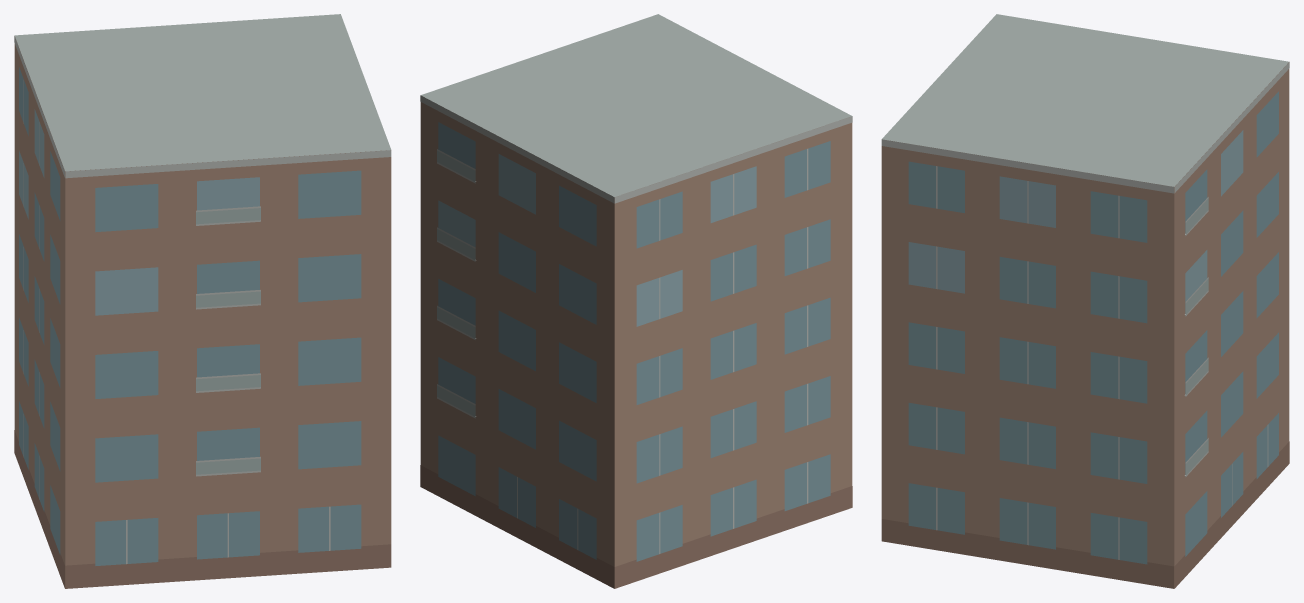
Rendered from survey-upis-32892219.glb.
3 views of the same model, side by side, from view 1: azimuth 30°, elevation 25°; view 2: azimuth 150°, elevation 25°; view 3: azimuth 270°, elevation 25° (orthographic). The views are drawn at different scales.
Visible parts, largest first — view 1: survey-upis-32892219.tmp; view 2: survey-upis-32892219.tmp; view 3: survey-upis-32892219.tmp.
Part boxes in pixels (box(x1,y1,x2,y2)): survey-upis-32892219.tmp: box(14, 14, 391, 588); survey-upis-32892219.tmp: box(420, 14, 852, 588); survey-upis-32892219.tmp: box(881, 14, 1289, 588).
Bounding box in the file's own units: 13.62 × 14.75 × 13.57.
